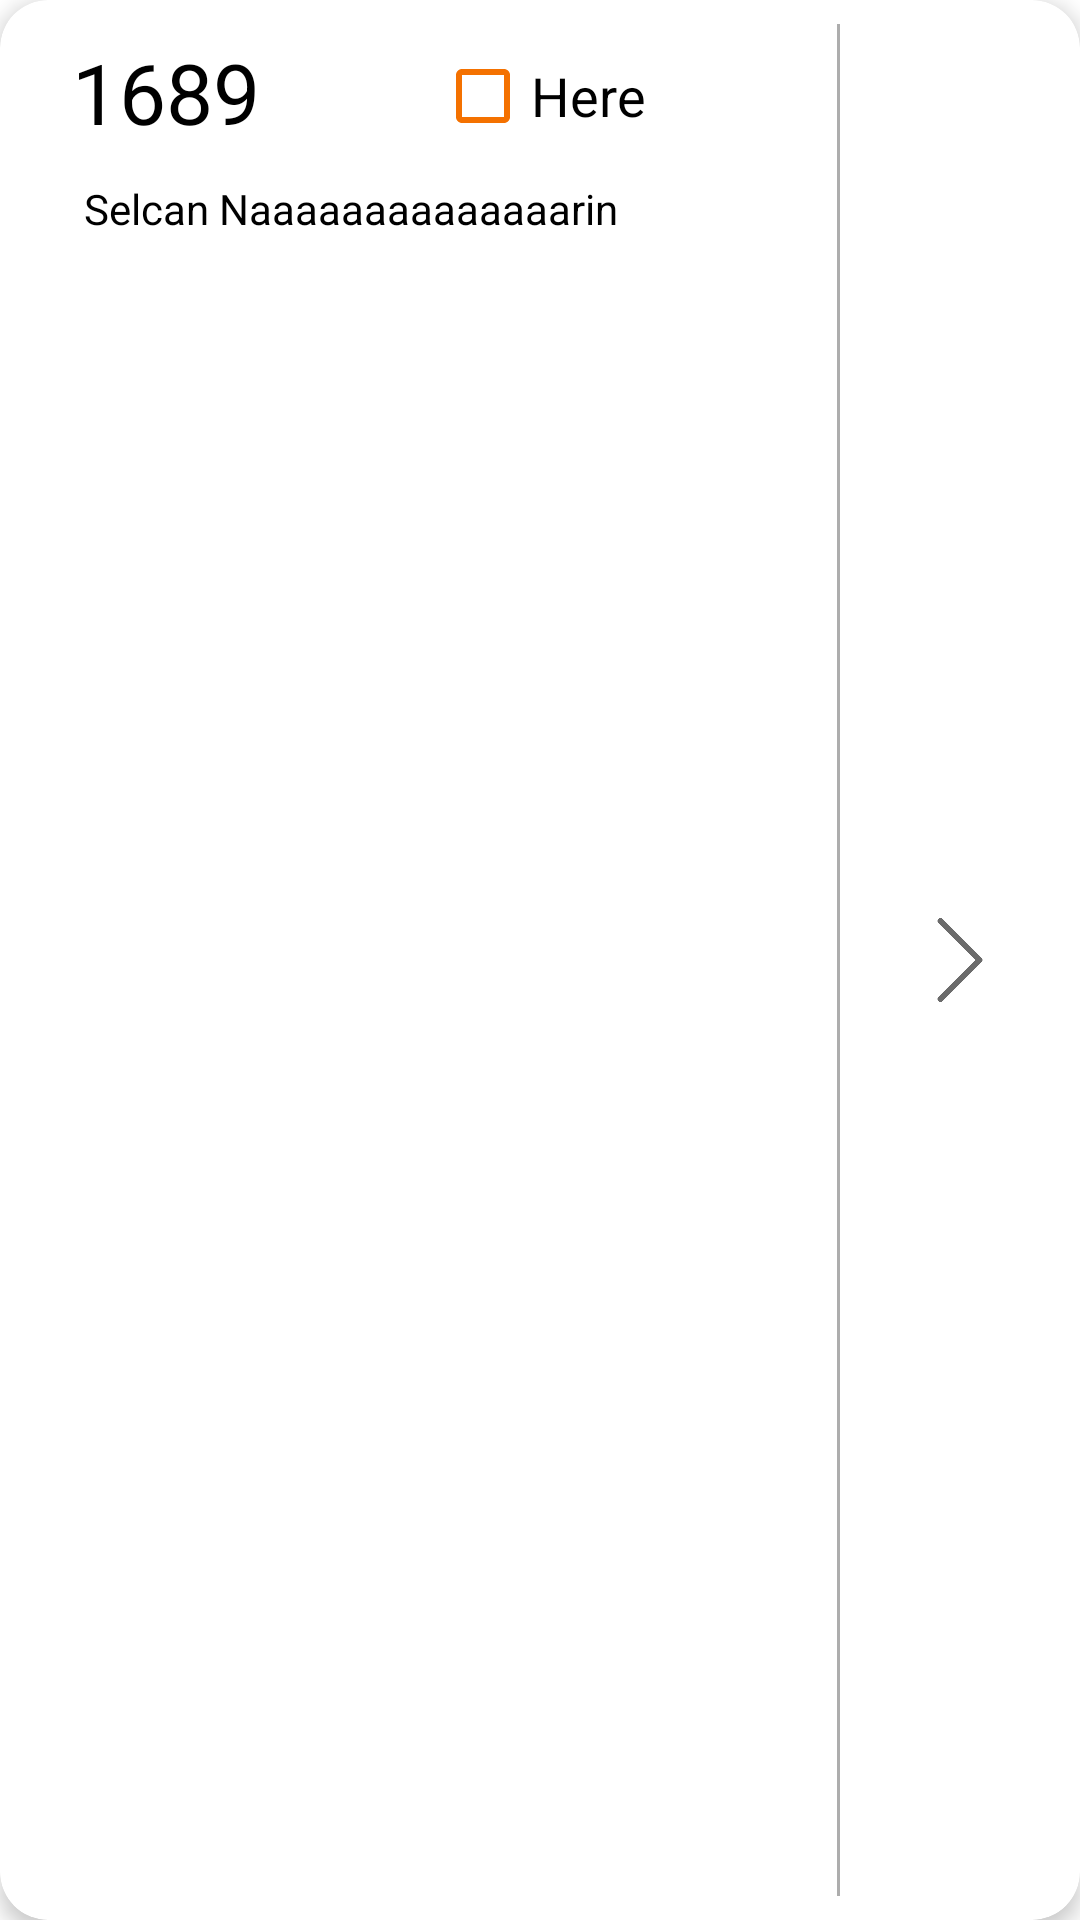

Screen size 1080 x 1920. Icon name, then its box in pixels as (x1, y1, x2, y2):
direction: (937, 918, 983, 1002)
